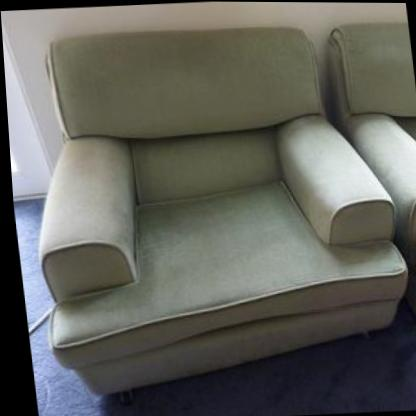Sofa: (10, 12, 416, 402)
